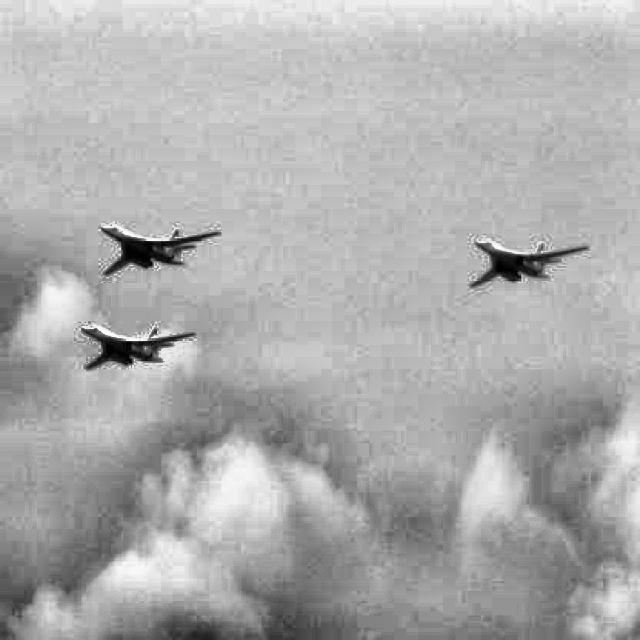Tu160: (98, 223, 222, 275), (469, 238, 589, 288), (81, 325, 196, 369)
